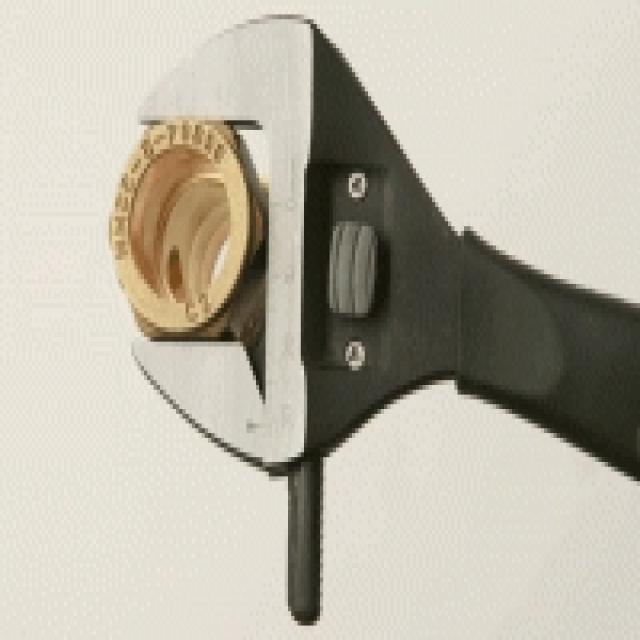wrench: (121, 4, 640, 476)
